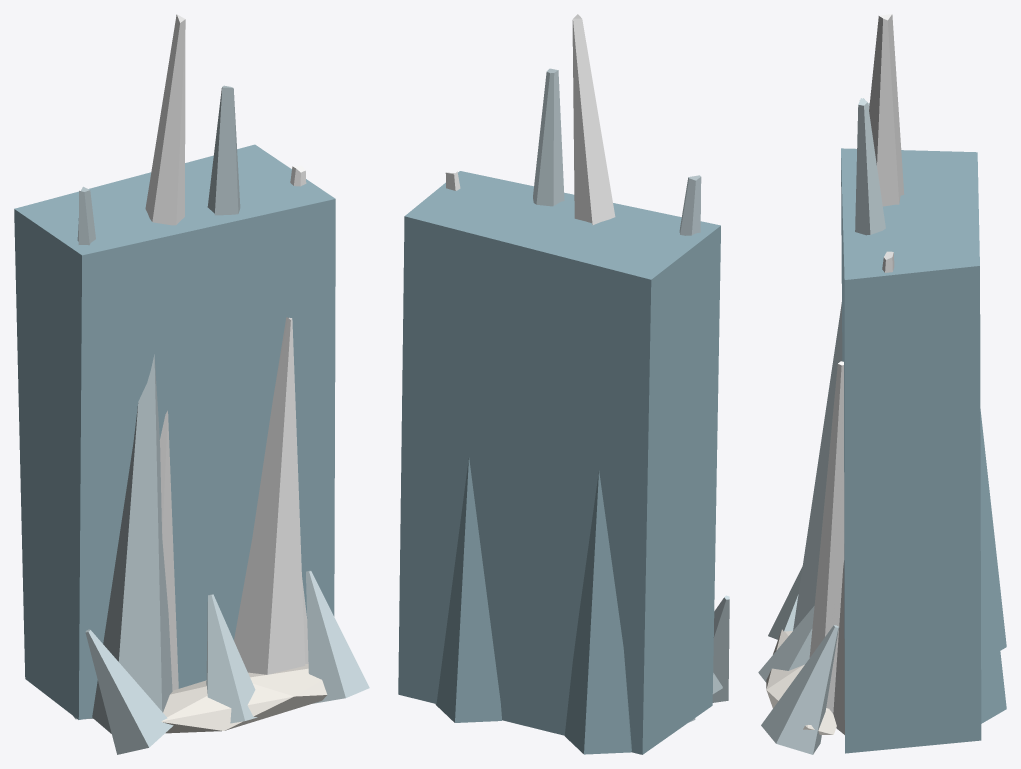
Rendered from sb_boss_ice_wall.glb.
The picture shows the model from 3 angles, left to right: view 1: azimuth 30°, elevation 25°; view 2: azimuth 150°, elevation 25°; view 3: azimuth 270°, elevation 25°; orthographic projection.
Visible parts, largest first — view 1: boss_ice_wall; view 2: boss_ice_wall; view 3: boss_ice_wall.
Part boxes in pixels (x1,y1,x2,y2): boss_ice_wall: (14, 14, 369, 754); boss_ice_wall: (398, 14, 729, 754); boss_ice_wall: (758, 14, 1006, 754).
Size of the model in its own units: 0.9735 by 2.46 by 0.8129.
